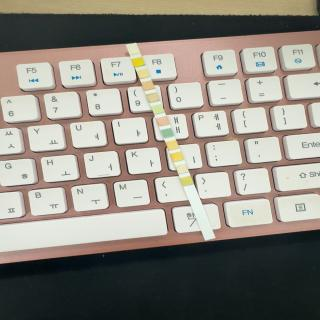mark: (153, 105, 163, 114), (171, 153, 182, 161), (157, 117, 168, 125), (142, 82, 153, 90), (137, 70, 148, 78), (181, 177, 191, 185), (177, 165, 187, 173), (168, 142, 178, 150), (148, 94, 158, 102), (132, 58, 143, 65), (162, 130, 172, 137), (128, 46, 138, 53)
